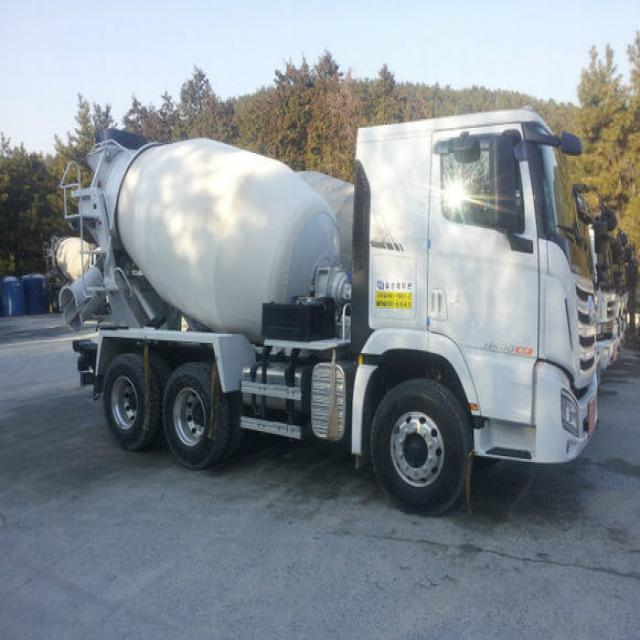Mixer Truck: (59, 110, 597, 516), (287, 169, 623, 395), (44, 232, 113, 326)
